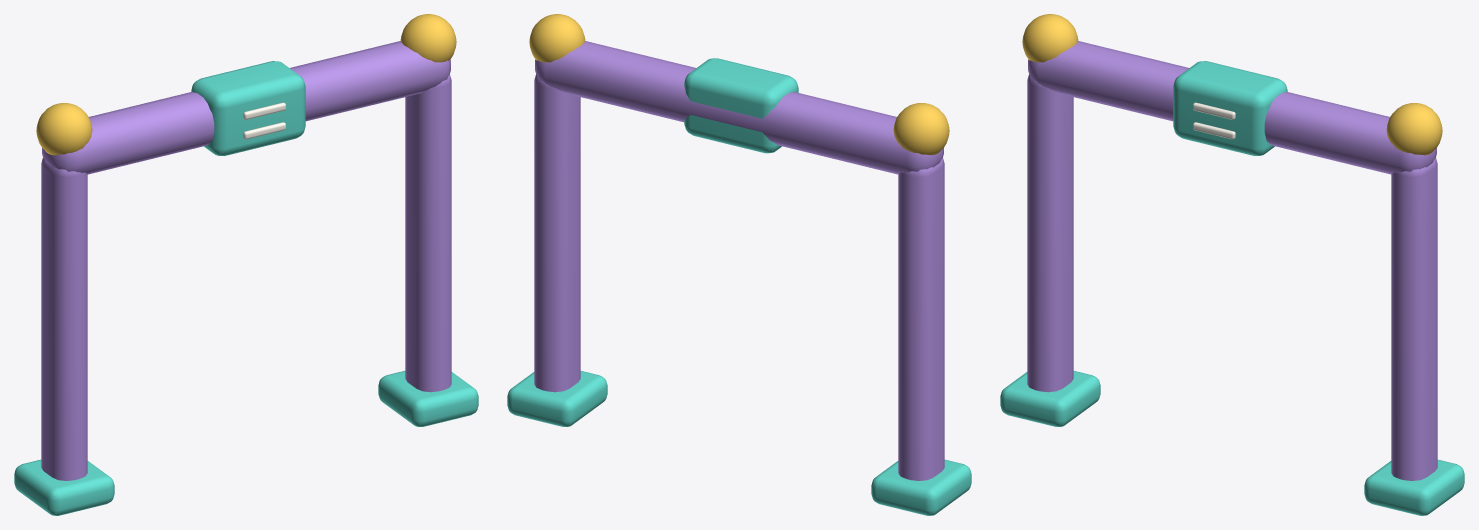
File: math-gate.gltf
The picture shows the model from 3 angles, left to right: view 1: azimuth 30°, elevation 25°; view 2: azimuth 150°, elevation 25°; view 3: azimuth 330°, elevation 25°; orthographic projection.
Visible parts, largest first — view 1: Gate header, Gate pillar, Gate pillar.001, Question plaque, Gate foot, Gate foot.001, Gate sparkle, Gate sparkle.001; view 2: Gate header, Gate pillar, Gate pillar.001, Question plaque, Gate foot, Gate foot.001, Gate sparkle, Gate sparkle.001; view 3: Gate header, Gate pillar.001, Gate pillar, Question plaque, Gate foot.001, Gate foot, Gate sparkle.001, Gate sparkle.
Part boxes in pixels (x1=…): Gate header: x1=42, y1=41, x2=450, y2=174; Gate pillar: x1=41, y1=158, x2=87, y2=480; Gate pillar.001: x1=405, y1=74, x2=451, y2=392; Question plaque: x1=191, y1=61, x2=305, y2=155; Gate foot: x1=14, y1=459, x2=114, y2=515; Gate foot.001: x1=378, y1=371, x2=478, y2=426; Gate sparkle: x1=36, y1=103, x2=92, y2=155; Gate sparkle.001: x1=400, y1=14, x2=456, y2=62; Gate header: x1=535, y1=41, x2=943, y2=174; Gate pillar: x1=898, y1=158, x2=944, y2=480; Gate pillar.001: x1=534, y1=74, x2=580, y2=392; Question plaque: x1=684, y1=58, x2=798, y2=153; Gate foot: x1=871, y1=459, x2=971, y2=515; Gate foot.001: x1=507, y1=371, x2=607, y2=426; Gate sparkle: x1=893, y1=103, x2=949, y2=155; Gate sparkle.001: x1=529, y1=14, x2=585, y2=62; Gate header: x1=1028, y1=41, x2=1436, y2=174; Gate pillar.001: x1=1391, y1=158, x2=1437, y2=480; Gate pillar: x1=1027, y1=74, x2=1073, y2=392; Question plaque: x1=1173, y1=61, x2=1287, y2=155; Gate foot.001: x1=1364, y1=459, x2=1464, y2=515; Gate foot: x1=1000, y1=371, x2=1100, y2=426; Gate sparkle.001: x1=1386, y1=103, x2=1442, y2=155; Gate sparkle: x1=1022, y1=14, x2=1078, y2=62.
Bounding box in the file's own units: 3.9 × 3.4 × 0.65.
